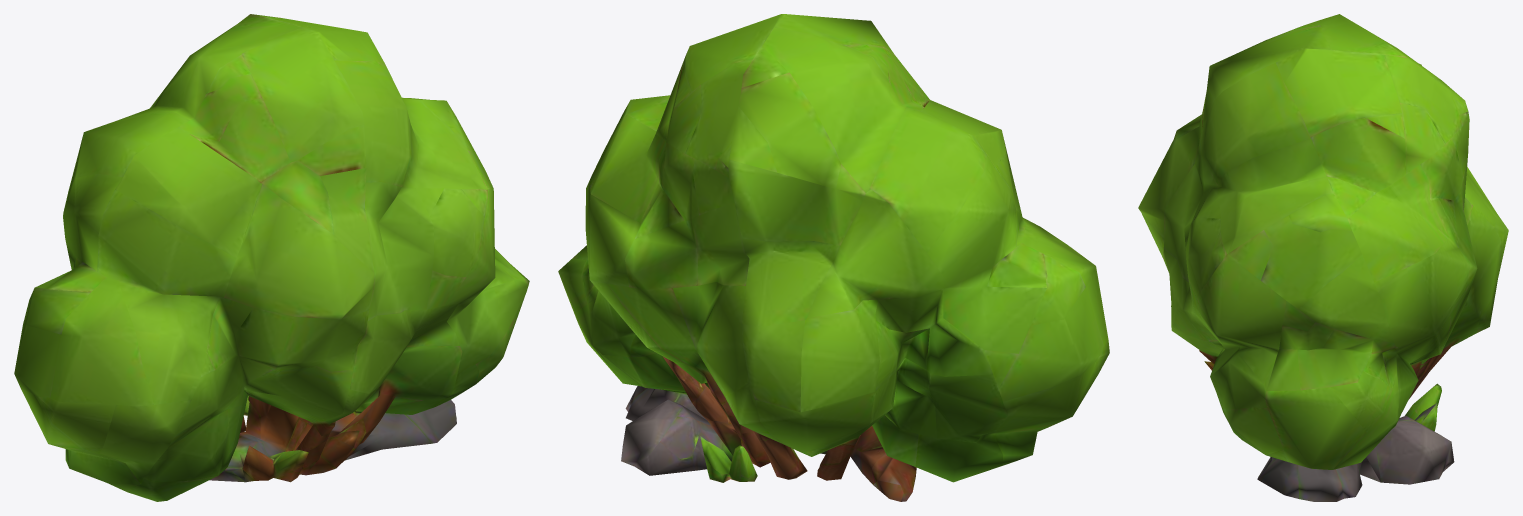
File: bush.glb
The picture shows the model from 3 angles, left to right: view 1: azimuth 30°, elevation 25°; view 2: azimuth 150°, elevation 25°; view 3: azimuth 270°, elevation 25°; orthographic projection. The views are drawn at different scales.
Parts seen in each view (by area): view 1: mesh_node; view 2: mesh_node; view 3: mesh_node.
Part boxes in pixels (box(x1,y1,x2,y2)): mesh_node: box(14, 14, 529, 501); mesh_node: box(558, 14, 1109, 501); mesh_node: box(1138, 14, 1508, 501).
Bounding box in the file's own units: 1.9 × 1.51 × 1.31.
Materials: 1 (1 with a texture image).
